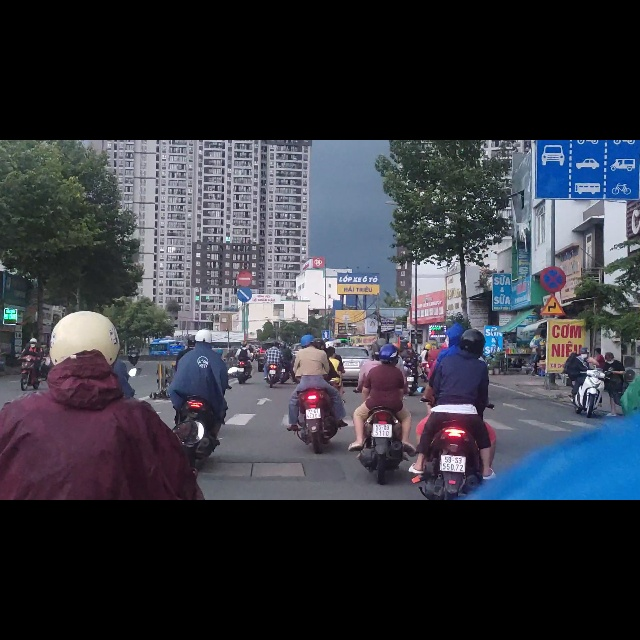bien_cam: (536, 1, 640, 108), (540, 223, 566, 271), (540, 273, 566, 314), (237, 233, 252, 260), (237, 261, 252, 287), (395, 328, 403, 347), (322, 337, 330, 353)
